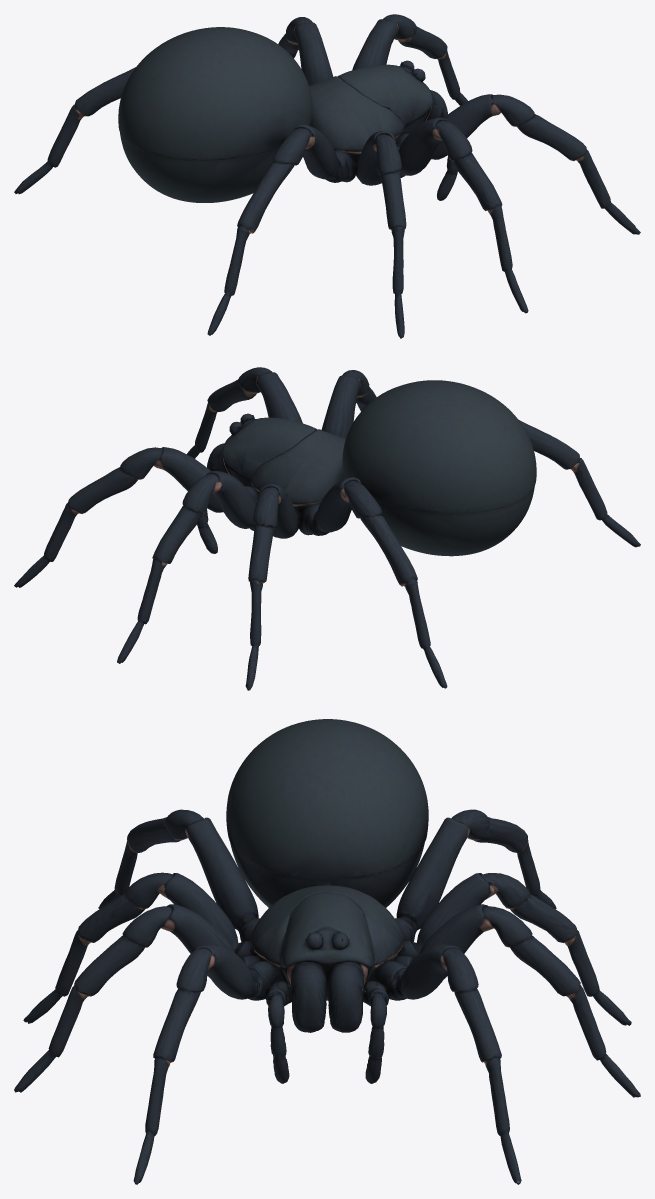
The model's file is spider.glb.
3 renders of one model, top to bottom at view 1: azimuth 30°, elevation 25°; view 2: azimuth 150°, elevation 25°; view 3: azimuth 270°, elevation 25°, orthographic. The views are drawn at different scales.
Parts seen in each view (by area): view 1: tripo_node_33e1e825-9ddb-416f-8b21-1744c4adf5e9; view 2: tripo_node_33e1e825-9ddb-416f-8b21-1744c4adf5e9; view 3: tripo_node_33e1e825-9ddb-416f-8b21-1744c4adf5e9.
Part boxes in pixels (box(x1,y1,x2,y2)): tripo_node_33e1e825-9ddb-416f-8b21-1744c4adf5e9: box(14, 14, 640, 338); tripo_node_33e1e825-9ddb-416f-8b21-1744c4adf5e9: box(14, 367, 640, 690); tripo_node_33e1e825-9ddb-416f-8b21-1744c4adf5e9: box(14, 719, 640, 1184).
Bounding box in the file's own units: 0.9445 × 0.4481 × 0.9804.
1 material, 1 textured.
